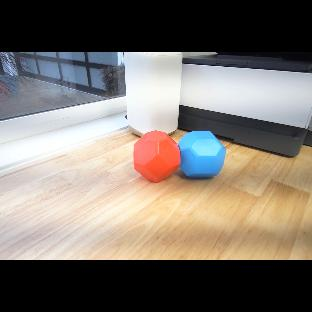V5_BLUE: (182, 129, 226, 179)
V5_RED: (133, 130, 180, 183)
